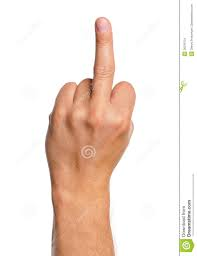hand: (23, 1, 159, 207)
